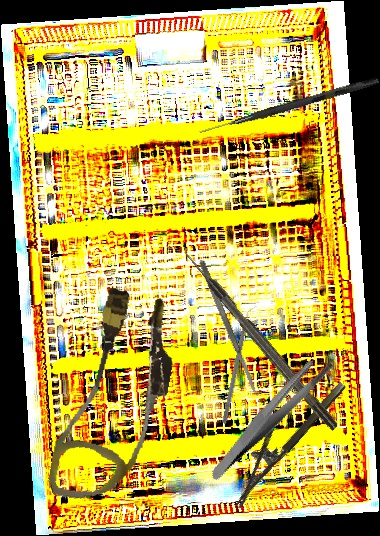Cannula: (46, 282, 184, 512)
Chopper: (221, 303, 259, 426)
Dressing Forceps: (186, 351, 354, 482)
Hook Surgical: (180, 247, 340, 433), (198, 75, 380, 138)
Needle Holder: (216, 366, 348, 509)
Spatula Surgical: (197, 258, 259, 396)
